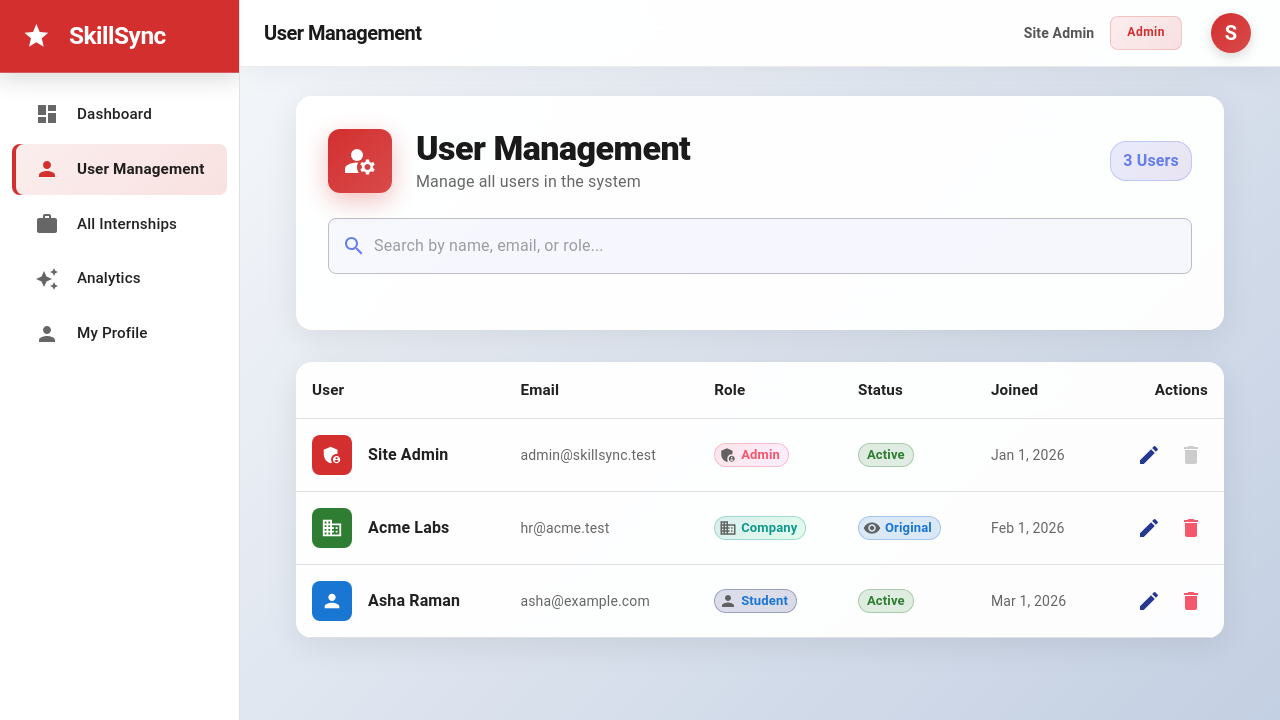
Test: renames a user
The width and height of the screenshot is (1280, 720).
Expected: the text "Asha Raman" is shown, [368, 589, 460, 613]
Click the button named "Edit User" in the row of "Asha Raman": [1149, 601] box [1132, 584, 1166, 618]
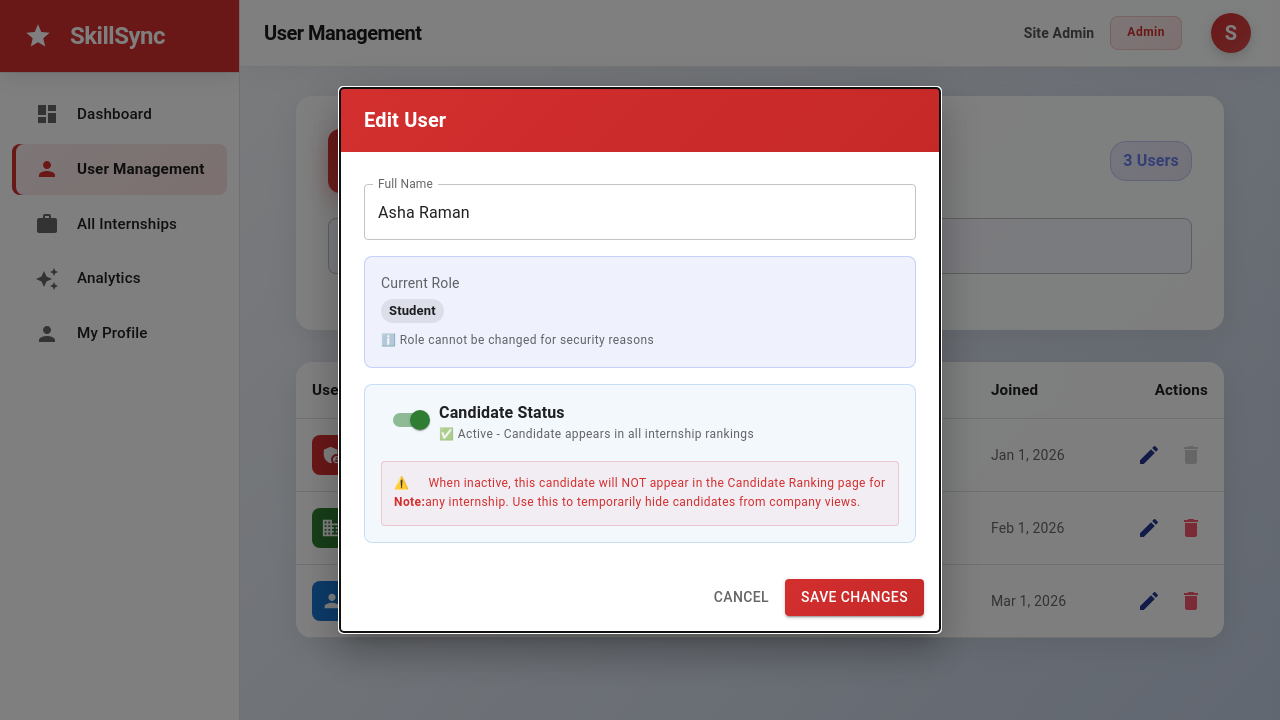
Replace the text in the field labelled "Full Name" with "Asha R": [640, 212] box [364, 184, 916, 240]
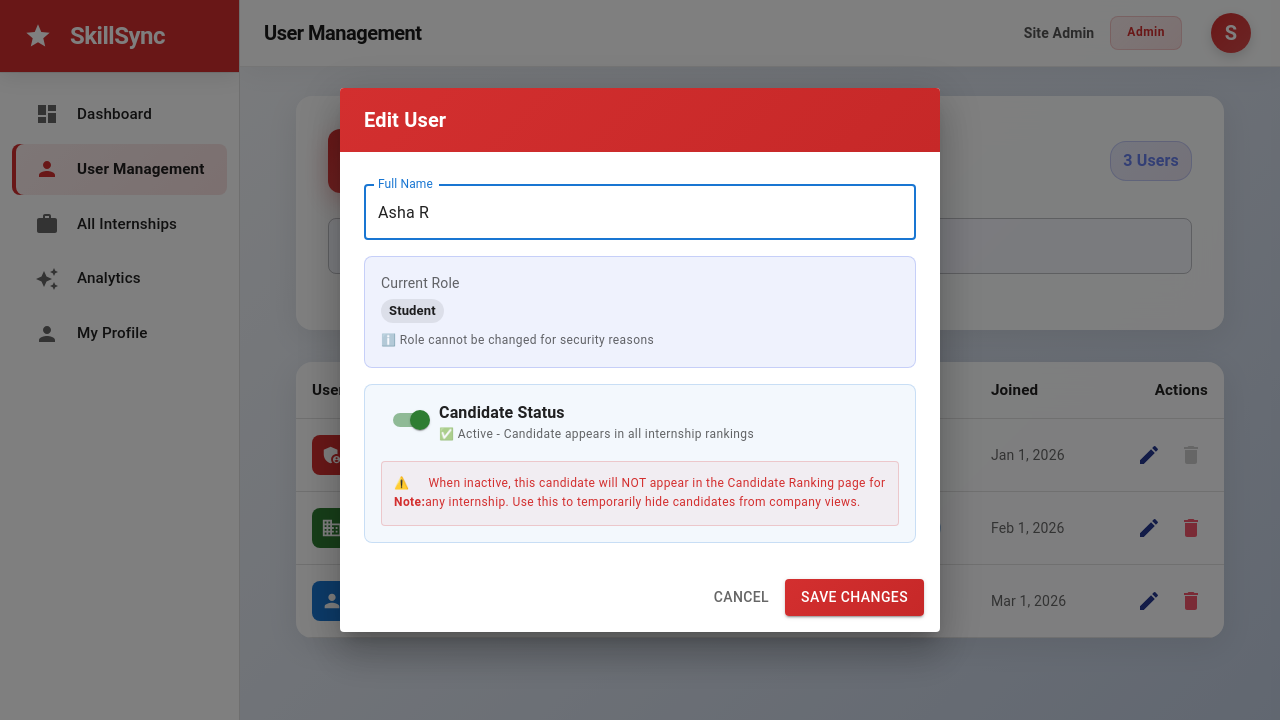
Click the button "Save Changes": [855, 598] box [785, 579, 924, 616]
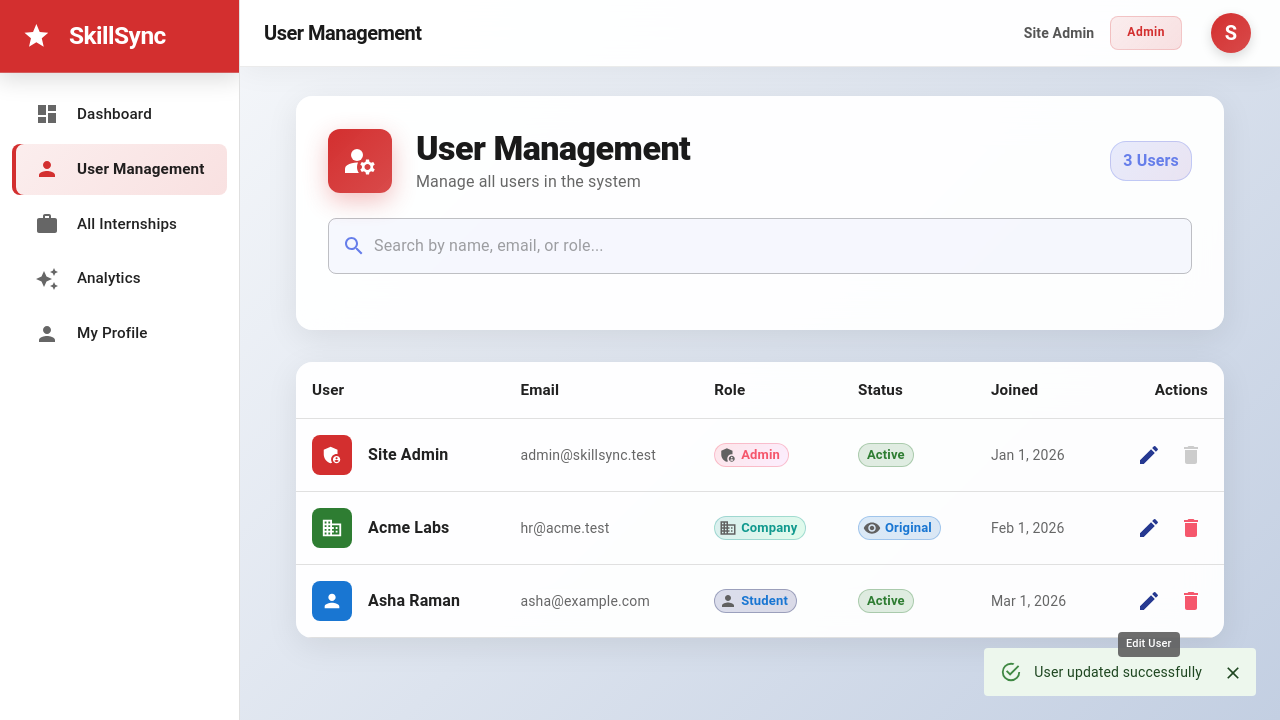
Result: the text "User updated successfully" is shown at [1034, 664, 1202, 680]
